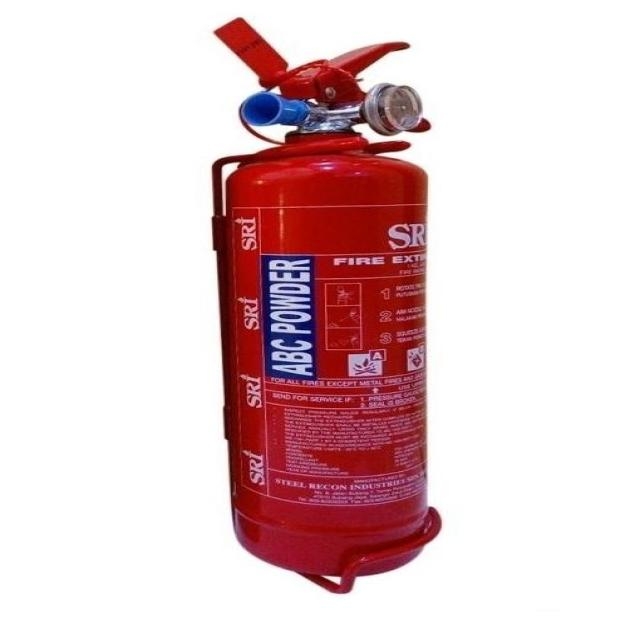fire_extinguisher: (198, 14, 446, 573)
